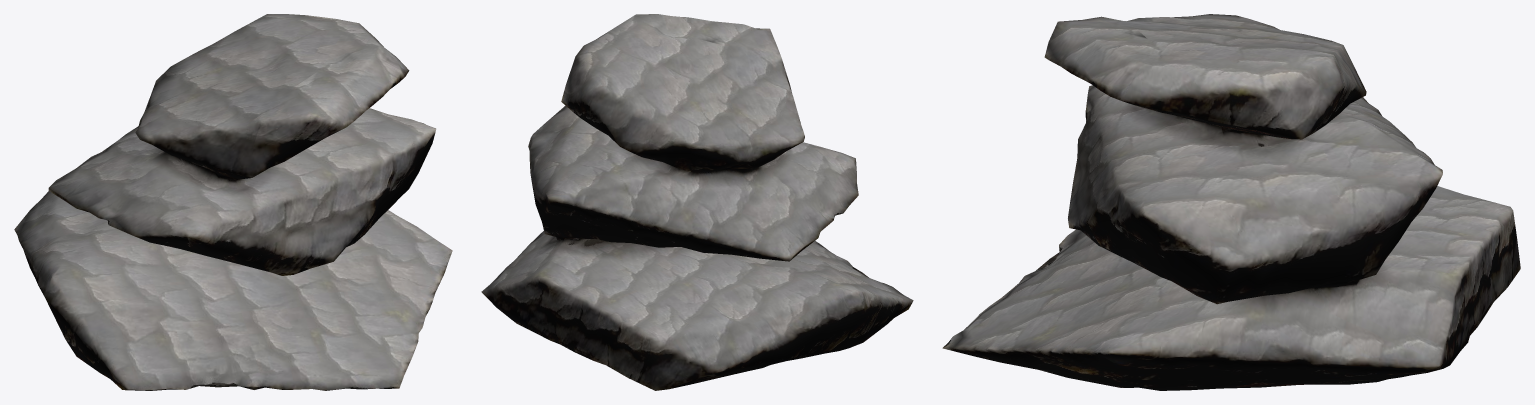
File: boulder_slabs_b.glb
3 renders of one model, left to right at view 1: azimuth 30°, elevation 25°; view 2: azimuth 150°, elevation 25°; view 3: azimuth 270°, elevation 25°, orthographic. The views are drawn at different scales.
Visible parts, largest first — view 1: rock; view 2: rock; view 3: rock.
Part boxes in pixels (bbox=[...]): rock: bbox=[14, 14, 452, 390]; rock: bbox=[481, 14, 913, 390]; rock: bbox=[942, 14, 1520, 390].
Size of the model in its own units: 1.17 by 0.8299 by 1.29.
1 material, 1 textured.
